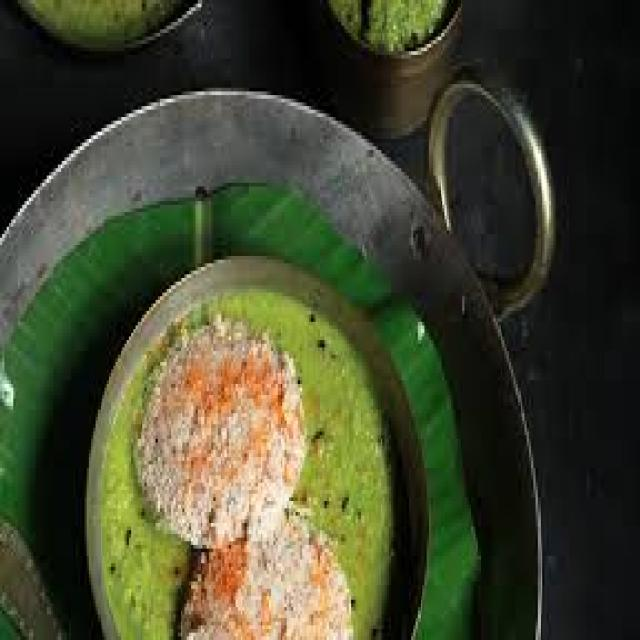IDLI: (140, 315, 304, 545)
